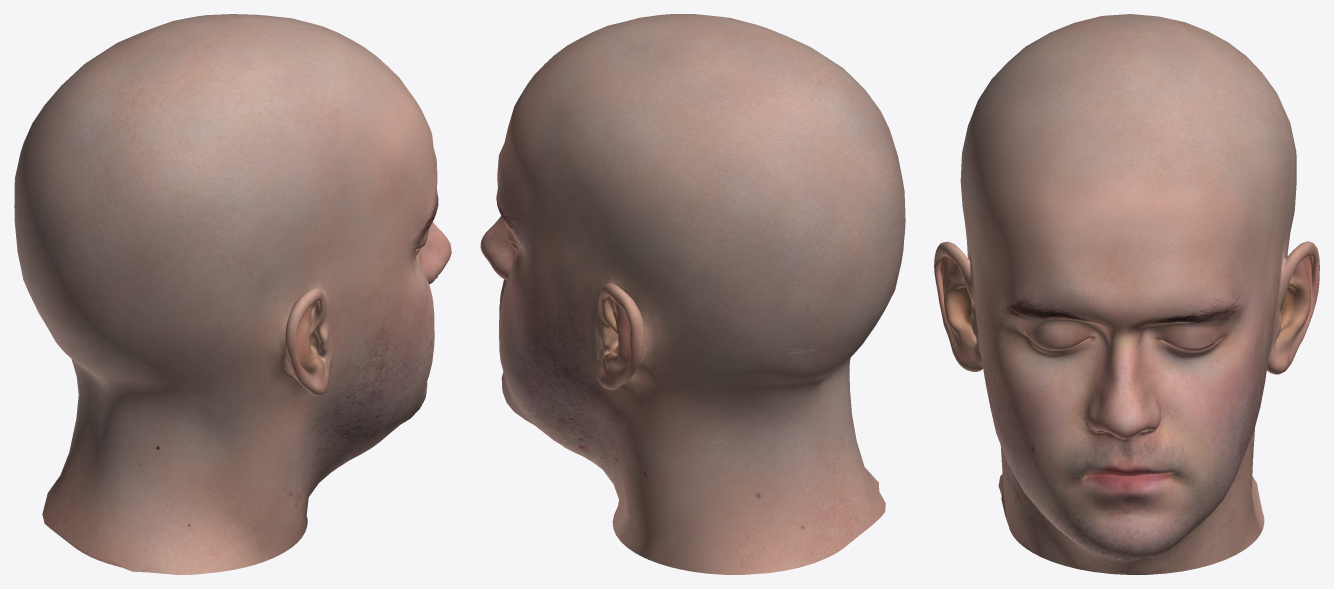
Rendered from light-plot-head.glb.
3 renders of one model, left to right at view 1: azimuth 30°, elevation 25°; view 2: azimuth 150°, elevation 25°; view 3: azimuth 270°, elevation 25°, orthographic. The views are drawn at different scales.
Parts seen in each view (by area): view 1: head; view 2: head; view 3: head.
Boxes of the visible parts, bbox=[...] form: head: bbox=[14, 14, 451, 574]; head: bbox=[480, 14, 905, 574]; head: bbox=[934, 14, 1319, 574].
Bounding box in the file's own units: 0.2206 × 0.2493 × 0.1744.
1 material, 1 textured.
